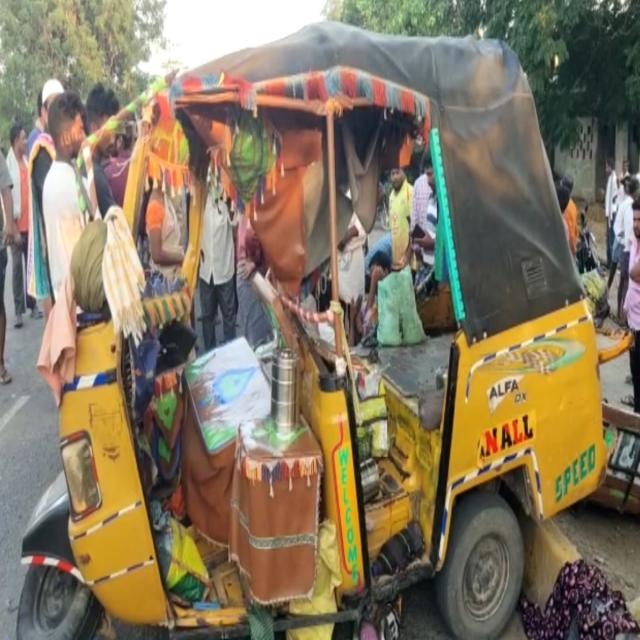accident: (18, 22, 606, 638)
